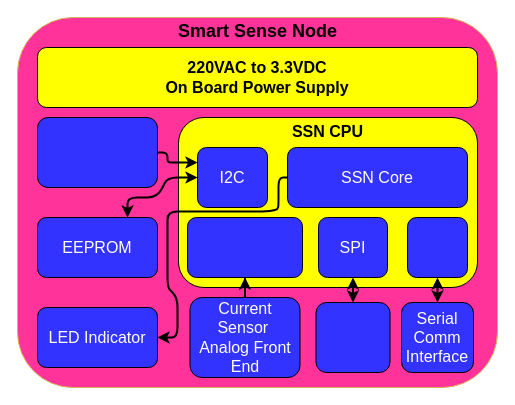
Image size: 515x405. Some labels were removed from this diagram. The shapes that lost their labels are listed below. From the top down, each one's centre as x and y in pixels, then its label:
the point at 97,152: Temperature and Humidity Sensor
the point at 244,247: Multi-Channel ADC
the point at 437,247: UART
the point at 352,337: Ethernet Interface
